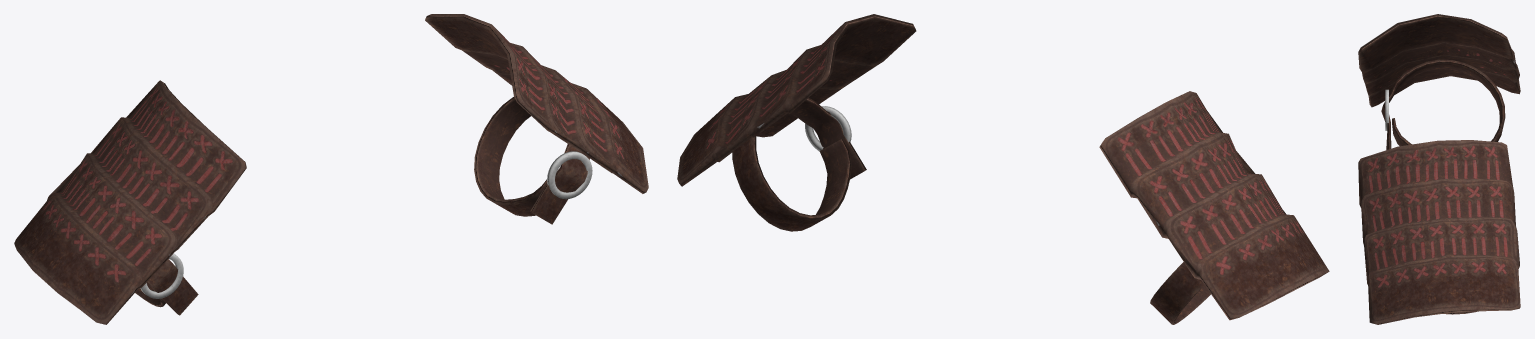
File: easterling02_v1_cape.fbx
3 views of the same model, side by side, from view 1: azimuth 30°, elevation 25°; view 2: azimuth 150°, elevation 25°; view 3: azimuth 270°, elevation 25° (orthographic). The views are drawn at different scales.
Parts seen in each view (by area): view 1: easterling02_v1_cape; view 2: easterling02_v1_cape; view 3: easterling02_v1_cape.
Boxes of the visible parts, left/top/right/bottom form: easterling02_v1_cape: left=14, top=14, right=648, bottom=324; easterling02_v1_cape: left=677, top=14, right=1329, bottom=324; easterling02_v1_cape: left=1358, top=14, right=1520, bottom=324.
Bounding box in the file's own units: 0.8177 × 0.2352 × 0.2621.
Materials: 1 (1 with a texture image).
